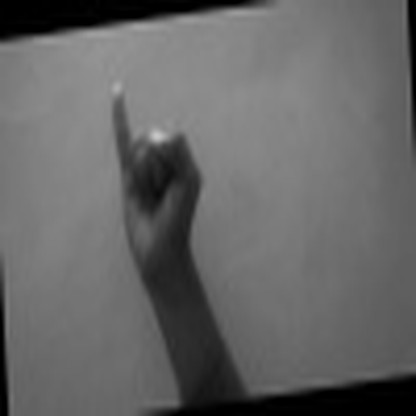i: (93, 73, 210, 273)
